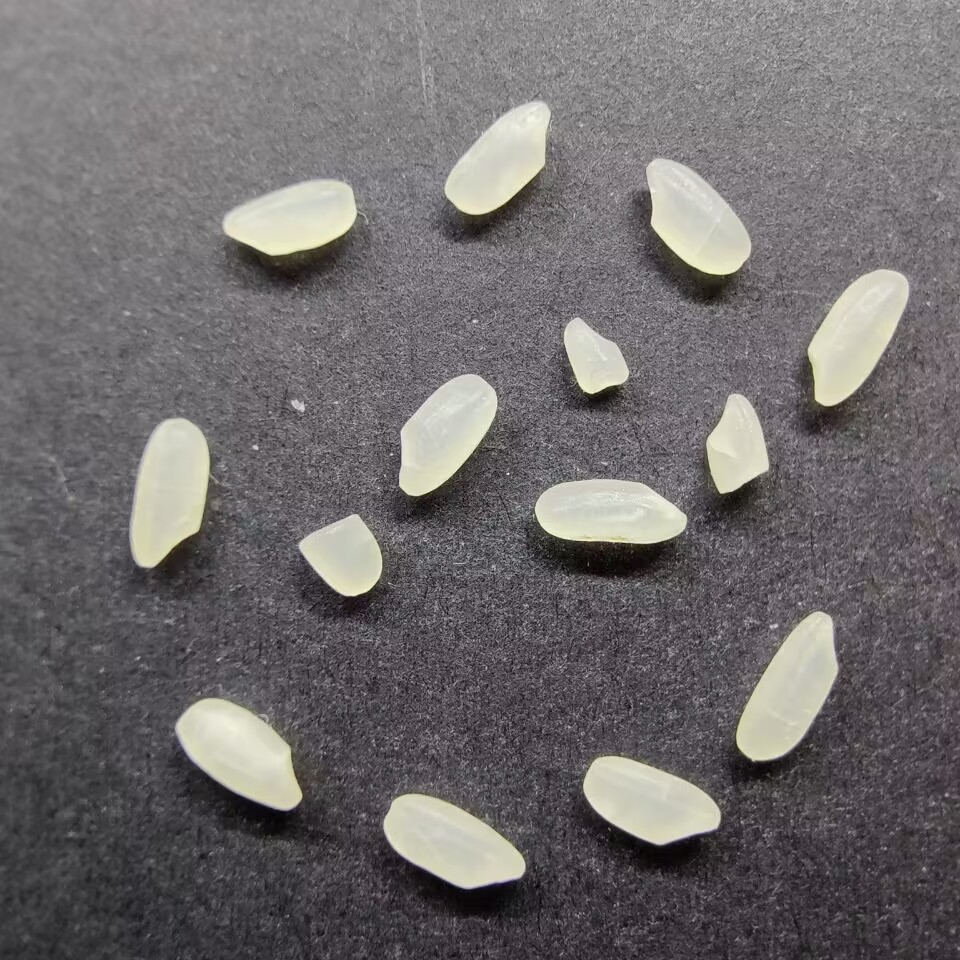broken: (297, 510, 386, 599), (703, 391, 773, 494), (561, 314, 631, 396)
rice: (734, 608, 842, 762), (804, 267, 913, 407), (176, 696, 305, 811), (381, 792, 527, 890), (643, 155, 751, 276), (581, 754, 723, 846), (128, 416, 211, 572), (443, 99, 552, 217), (394, 374, 499, 496), (532, 476, 690, 545), (221, 178, 357, 257)
